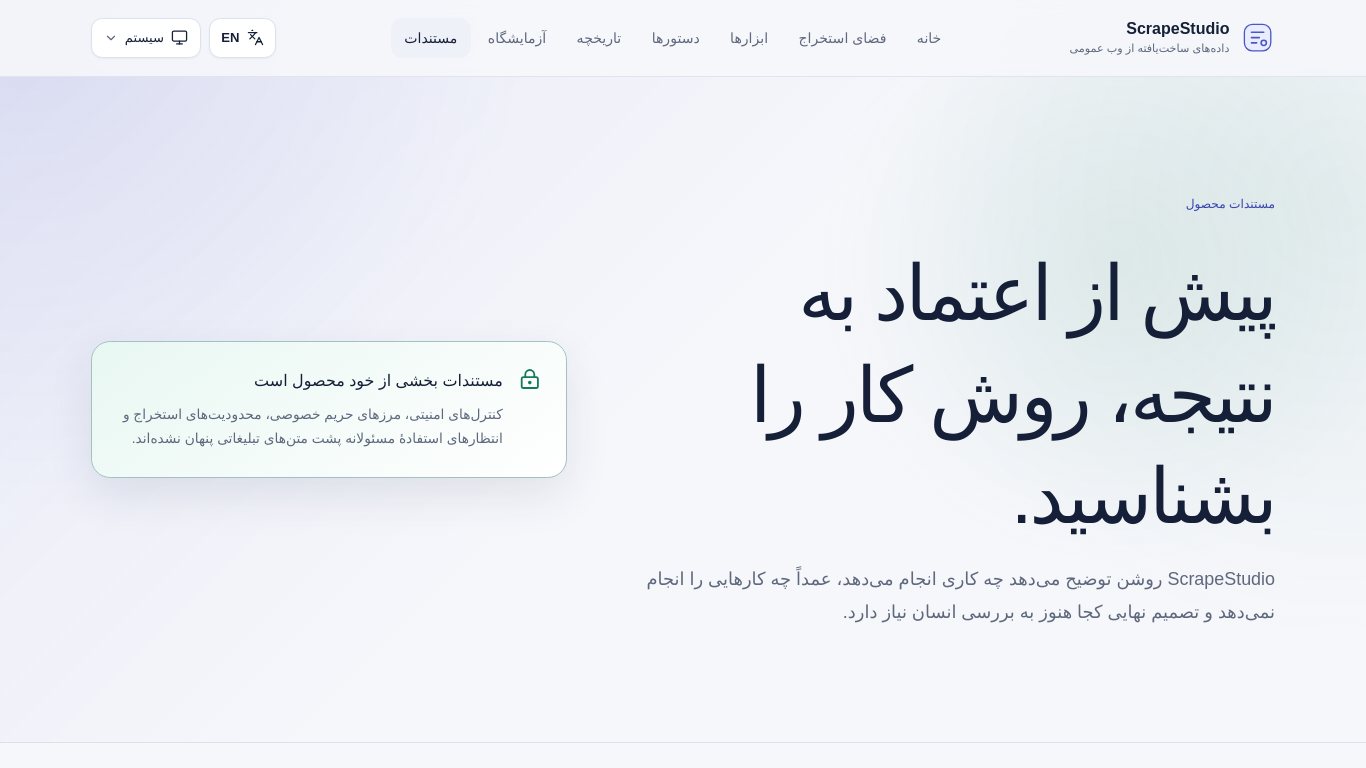
Test: localized application shell › switches locale while preserving the current route
Expected: the header is shown, [0,0,1365,77]
Expected: the heading "پیش از اعتماد به نتیجه، روش کار را بشناسید." is shown, [750,250,1275,539]
Click the button with aria-label "تغییر زبان به English".
click(242, 38)  # box [209,18,276,58]
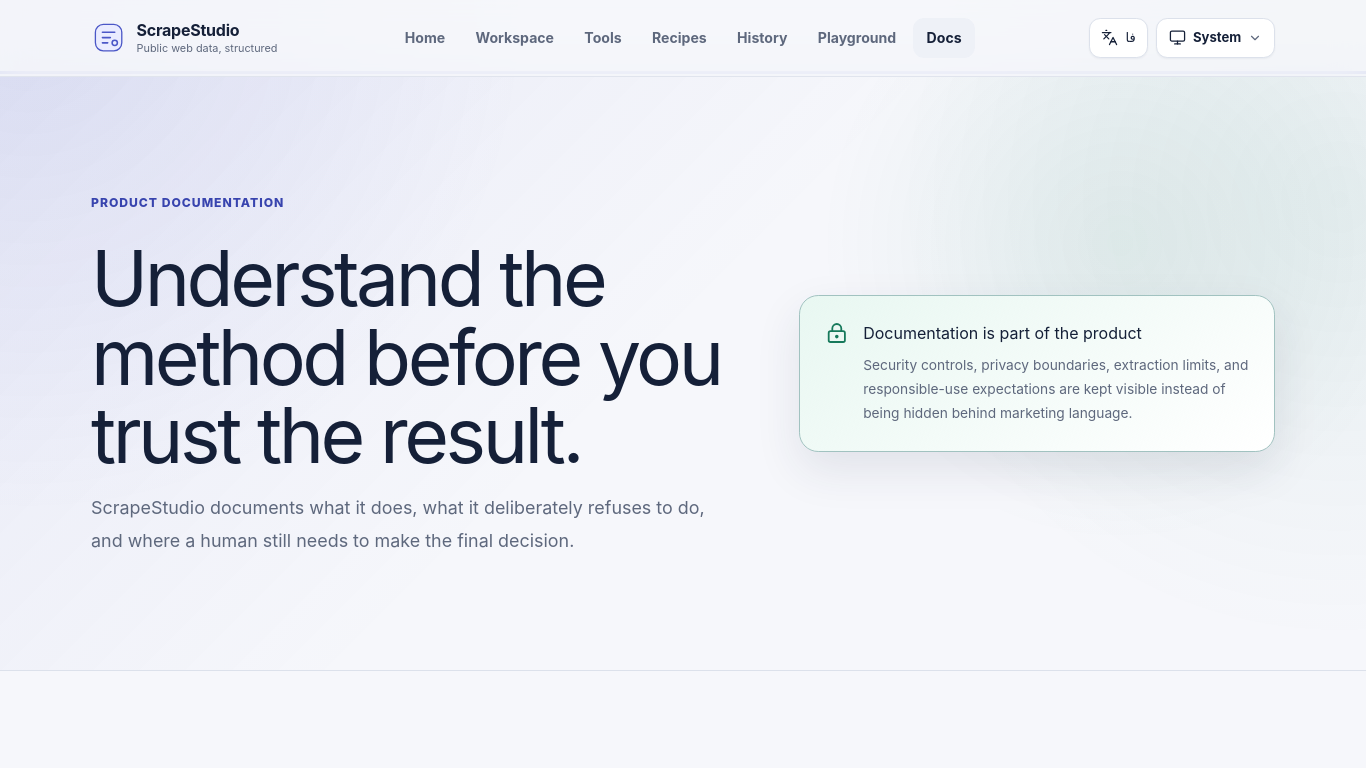
Now the heading "Understand the method before you trust the result." is shown, box [91,240,735,475]
